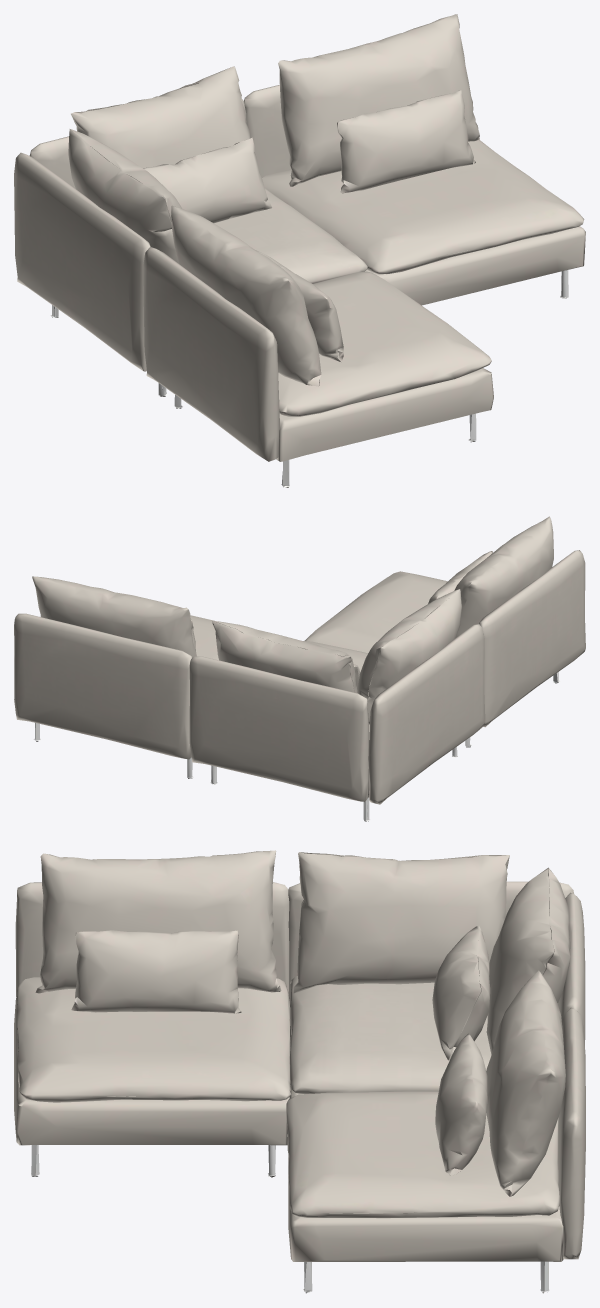
The model's file is soderhamn_sofa_narozna_3_osobowa_99305417.glb.
3 renders of one model, top to bottom at view 1: azimuth 30°, elevation 25°; view 2: azimuth 150°, elevation 25°; view 3: azimuth 270°, elevation 25°, orthographic. The views are drawn at different scales.
Parts seen in each view (by area): view 1: soderhamn_sofa_narozna_3_osobowa_99305417; view 2: soderhamn_sofa_narozna_3_osobowa_99305417; view 3: soderhamn_sofa_narozna_3_osobowa_99305417.
Part boxes in pixels (x1,y1,x2,y2): soderhamn_sofa_narozna_3_osobowa_99305417: (14, 14, 585, 487); soderhamn_sofa_narozna_3_osobowa_99305417: (14, 516, 585, 821); soderhamn_sofa_narozna_3_osobowa_99305417: (14, 850, 585, 1293).
Size of the model in its own units: 1.96 by 0.8491 by 1.95.
Materials: 1 (1 with a texture image).
